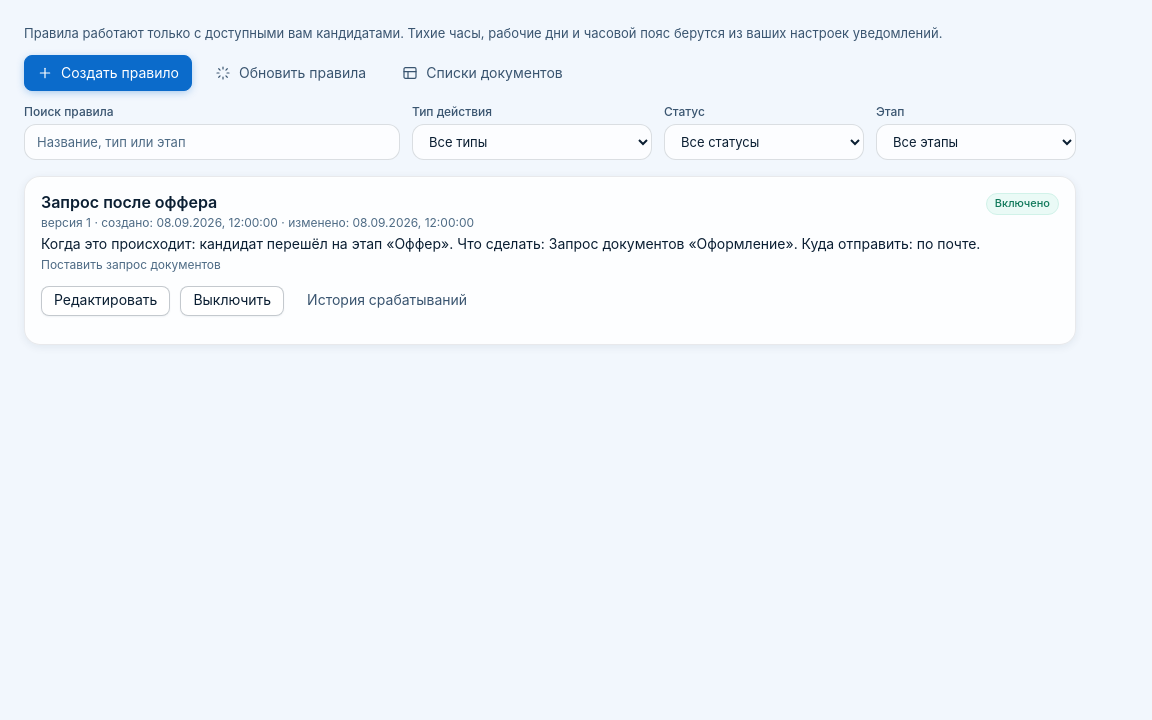
Мои правила › surfaces a backend 422 combination message in Russian
This screenshot has width=1152, height=720.
Check: the heading "Запрос после оффера" is shown, box [41,192,217,212]
Click the button "Редактировать": (106, 300) [41,286,170,316]
(page scrolled)
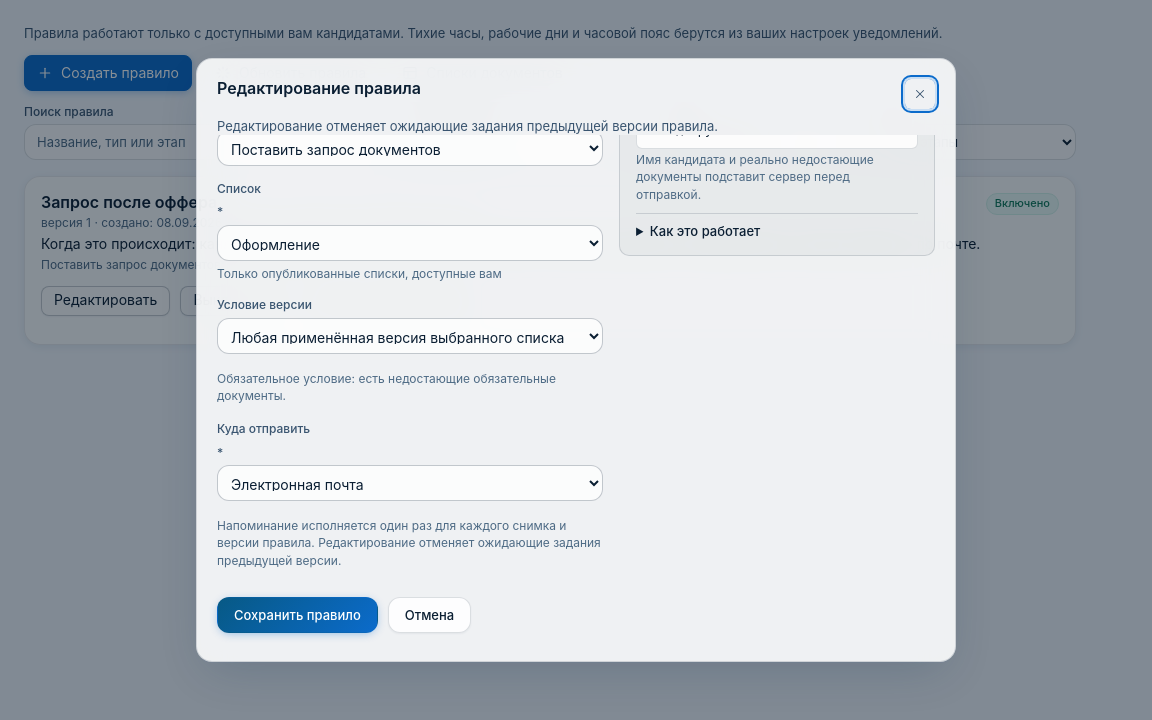
Check: the dialog is shown, box [196,58,956,662]
Click the button "Сохранить правило": (297, 615) [217,597,378,633]
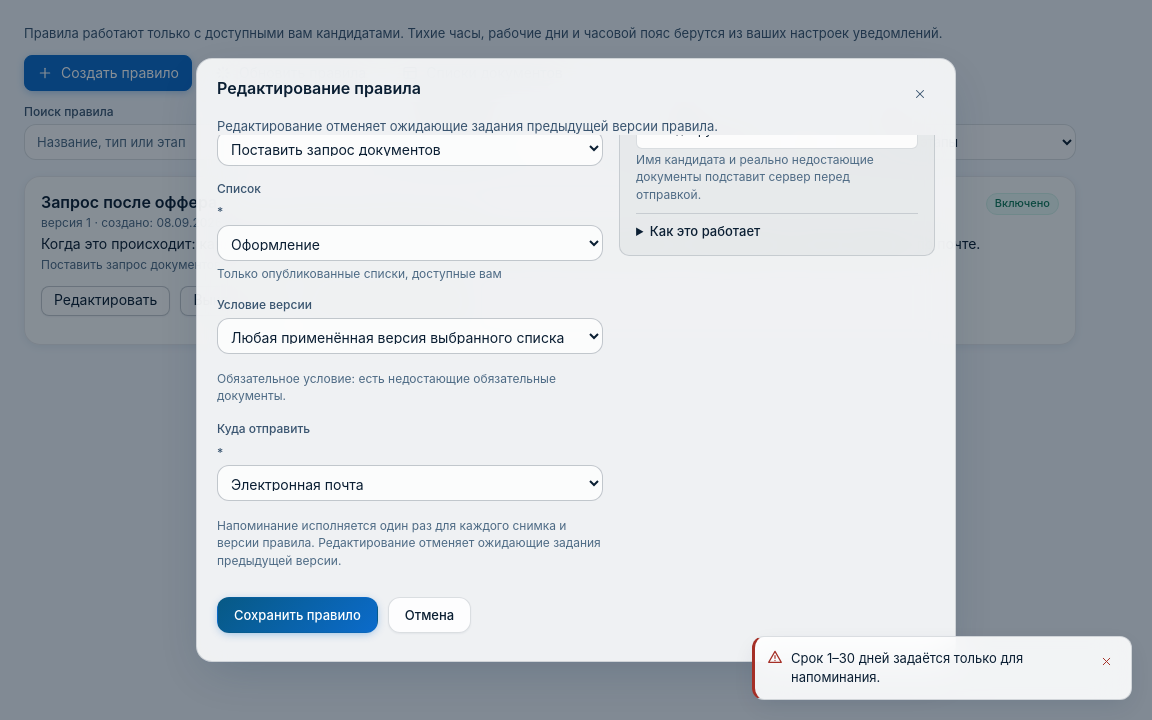
Check: the heading "Редактирование правила" is shown, box [217,79,421,98]
Check: the text "Срок 1–30 дней задаётся только для напоминания." is shown, box [791,650,1023,685]
